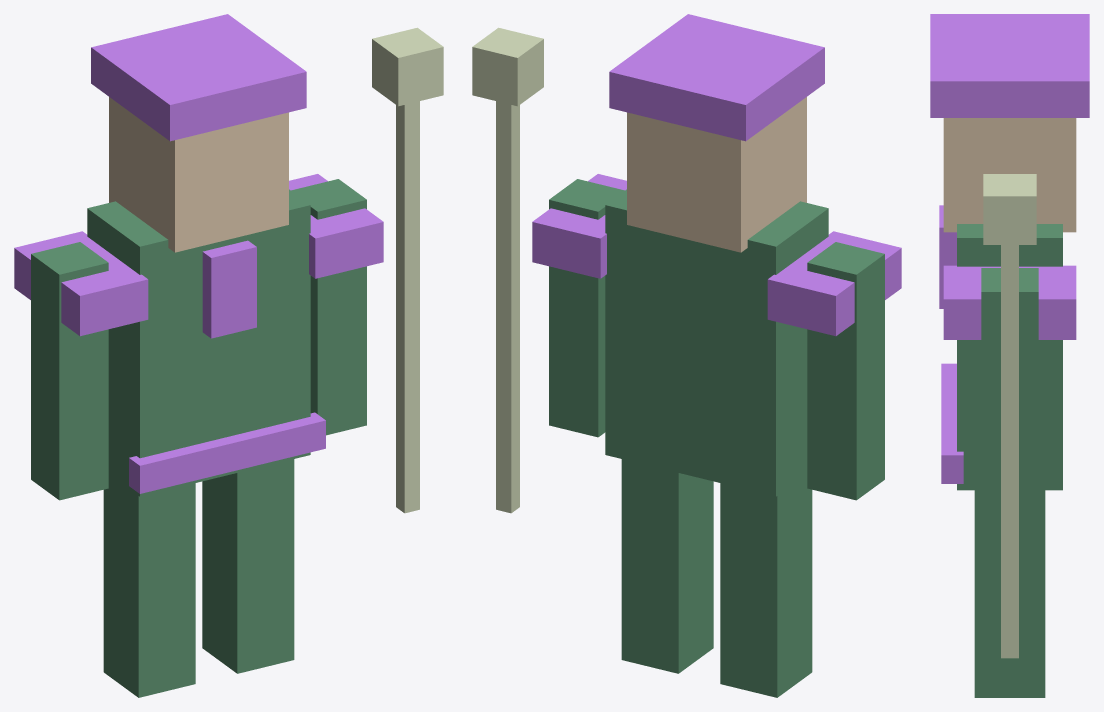
Rendered from 20_luma_holloway_marshal_near.glb.
3 renders of one model, left to right at view 1: azimuth 30°, elevation 25°; view 2: azimuth 150°, elevation 25°; view 3: azimuth 270°, elevation 25°, orthographic.
Parts seen in each view (by area): view 1: Luma Holloway, Marshal near; view 2: Luma Holloway, Marshal near; view 3: Luma Holloway, Marshal near.
Part boxes in pixels (x1,y1,x2,y2): Luma Holloway, Marshal near: (14, 14, 443, 697); Luma Holloway, Marshal near: (472, 14, 901, 697); Luma Holloway, Marshal near: (930, 14, 1089, 697).
Size of the model in its own units: 1.03 by 1.54 by 0.3641.
